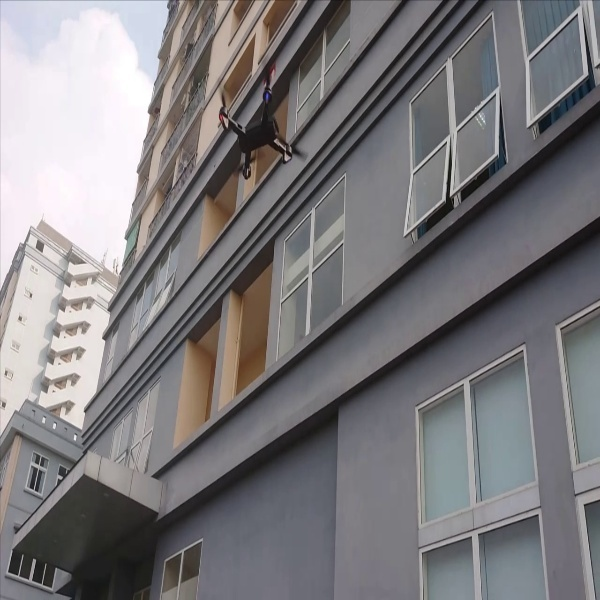drone: (207, 63, 311, 180)
